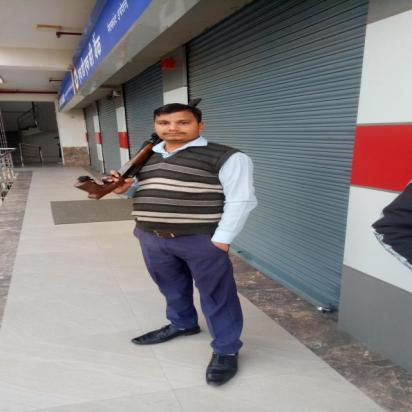Gun: (71, 96, 206, 201)
